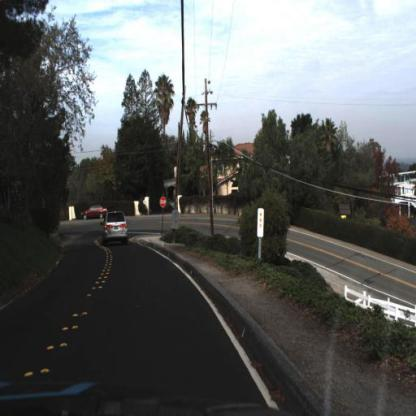car: (102, 207, 137, 250), (102, 208, 132, 246), (82, 203, 110, 221), (161, 197, 181, 216)
